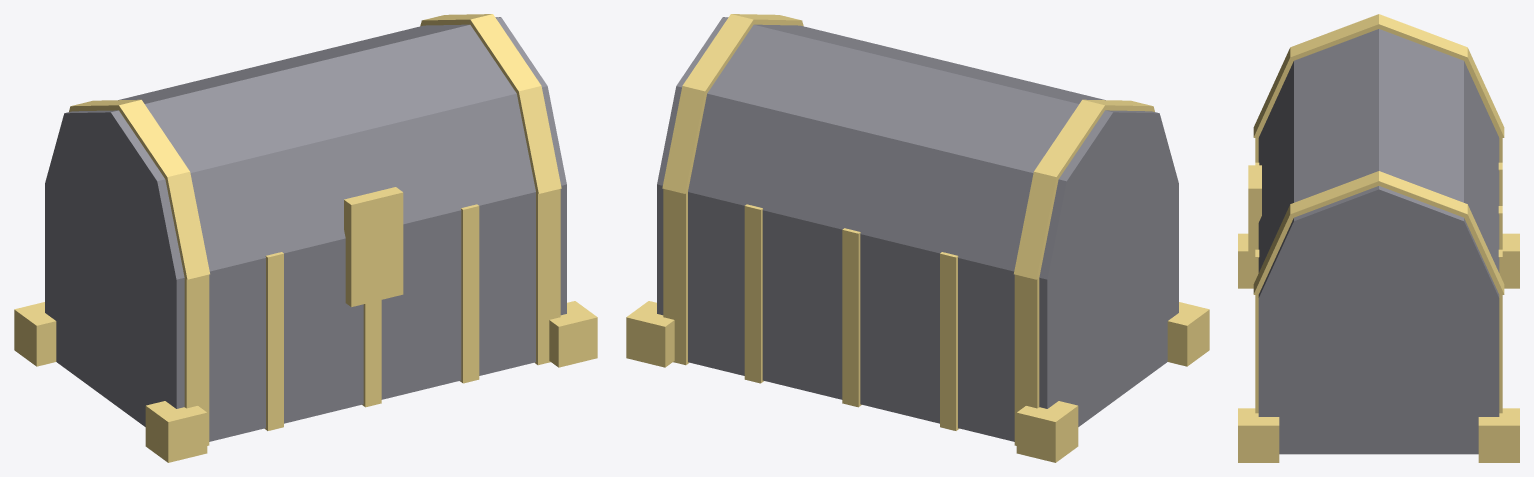
File: chest_vault.glb
3 renders of one model, left to right at view 1: azimuth 30°, elevation 25°; view 2: azimuth 150°, elevation 25°; view 3: azimuth 270°, elevation 25°, orthographic. The views are drawn at different scales.
Parts seen in each view (by area): view 1: Body, Lid_mesh; view 2: Body, Lid_mesh; view 3: Lid_mesh, Body.
Boxes of the visible parts, x1=… form: Body: x1=14, y1=183, x2=597, y2=462; Lid_mesh: x1=45, y1=14, x2=566, y2=279; Body: x1=626, y1=183, x2=1209, y2=462; Lid_mesh: x1=657, y1=14, x2=1178, y2=279; Lid_mesh: x1=1248, y1=14, x2=1504, y2=298; Body: x1=1238, y1=136, x2=1519, y2=462.
Size of the model in its own units: 1.32 by 0.87 by 0.82.
